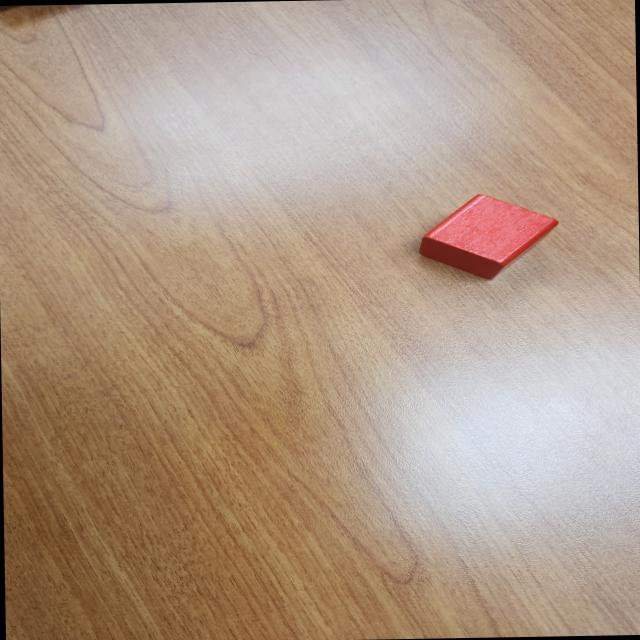red: (418, 192, 563, 281)
